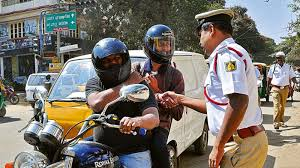helmet: (89, 41, 139, 81), (145, 24, 177, 66)
